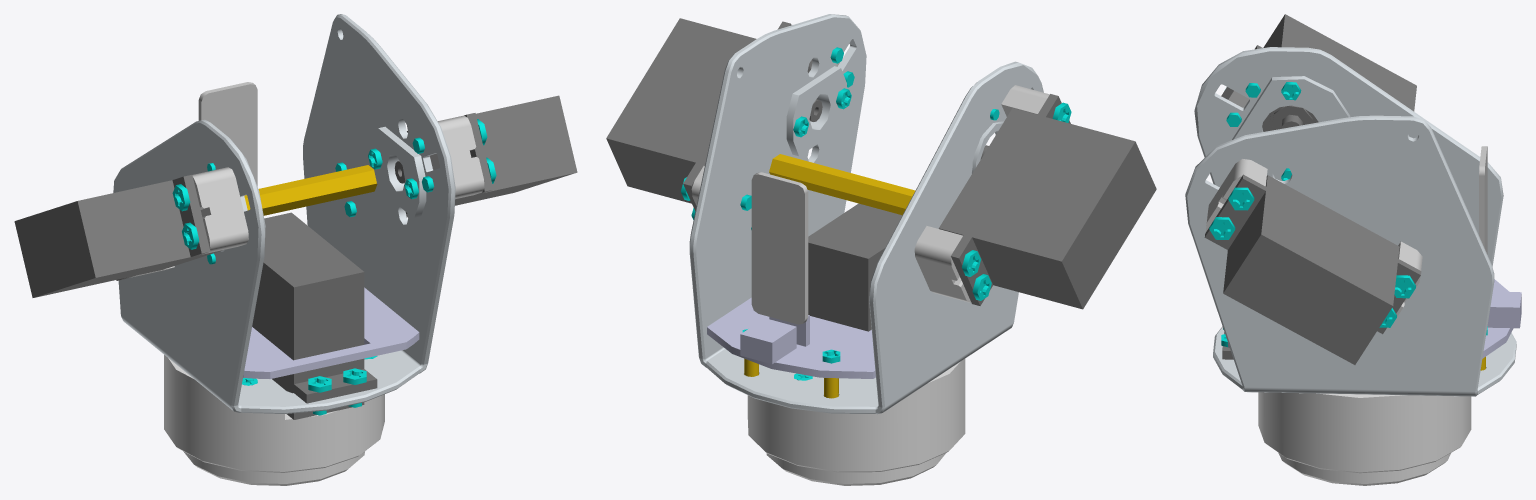
Rendered from body.dae.
3 renders of one model, left to right at view 1: azimuth 30°, elevation 25°; view 2: azimuth 150°, elevation 25°; view 3: azimuth 270°, elevation 25°, orthographic. The views are drawn at different scales.
Parts seen in each view (by area): view 1: __001; view 2: __001; view 3: __001.
Part boxes in pixels (x1,y1,x2,y2): __001: (14,14,577,485); __001: (606,14,1156,485); __001: (1185,14,1521,485).
Size of the model in its own units: 139 by 88.21 by 109.
